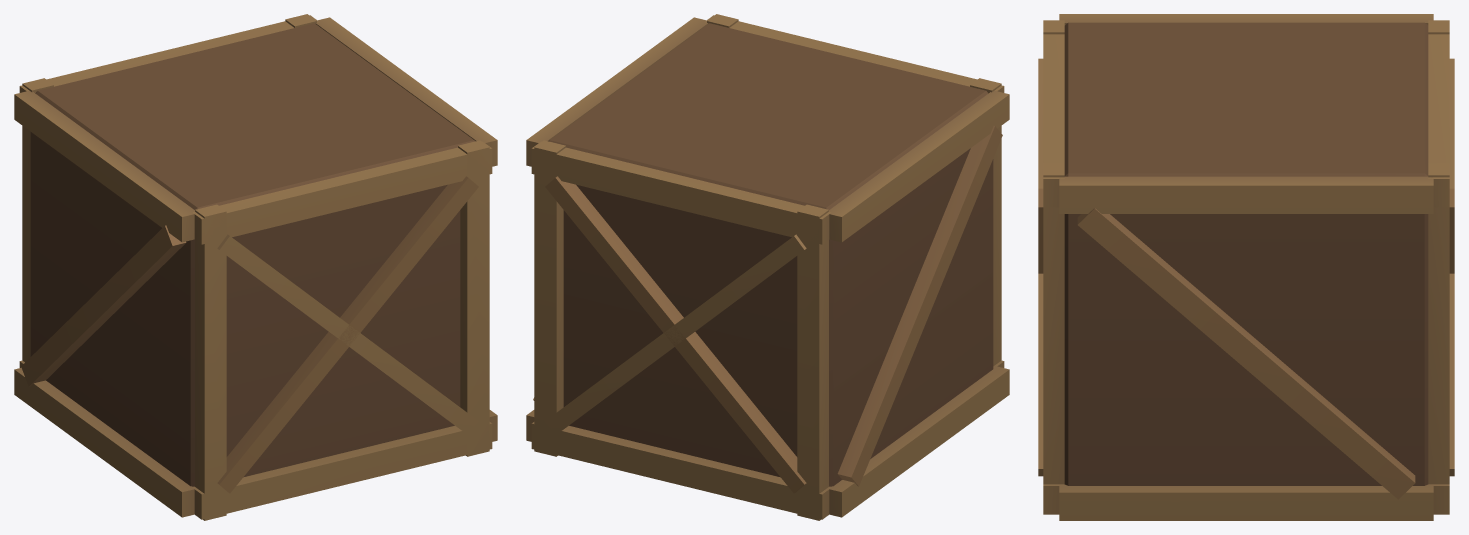
The model's file is SH_Crate.glb.
The picture shows the model from 3 angles, left to right: view 1: azimuth 30°, elevation 25°; view 2: azimuth 150°, elevation 25°; view 3: azimuth 270°, elevation 25°; orthographic projection. The views are drawn at different scales.
Parts seen in each view (by area): view 1: SH_Crate__Body; view 2: SH_Crate__Body; view 3: SH_Crate__Body.
Part boxes in pixels (x1,y1,x2,y2): SH_Crate__Body: (14,14,497,520); SH_Crate__Body: (526,14,1009,520); SH_Crate__Body: (1038,14,1454,520).
Bounding box in the file's own units: 4.6 × 4.2 × 4.67.
